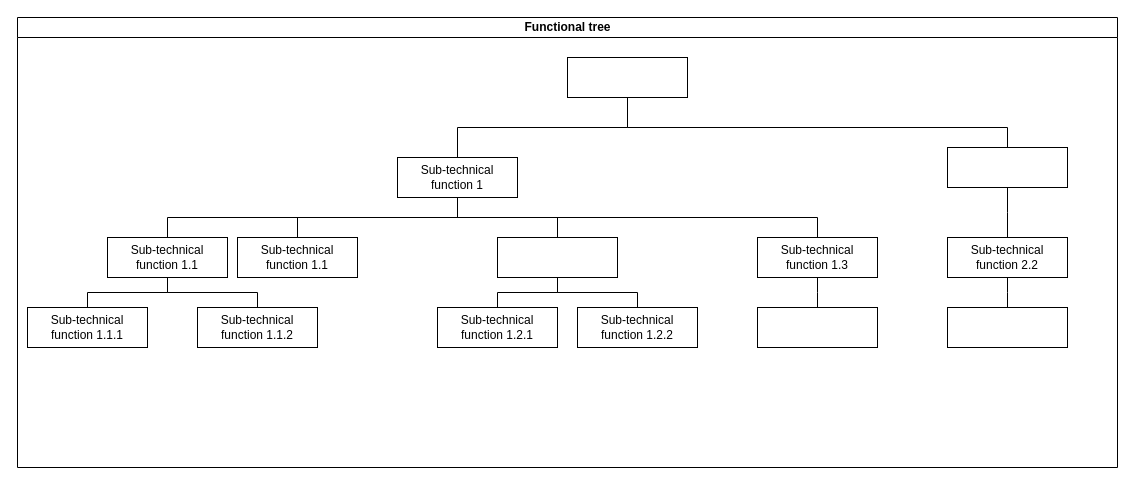
The diagram is 1135 pixels wide and 485 high, and some of its shapes have lost their labels. Each missing label, with the centre of its shape:
"Cool down" belongs at (x=627, y=77).
"Sub-technical function 1.2" belongs at (x=557, y=257).
"Sub-technical function 1.3.1" belongs at (x=817, y=327).
"Sub-technical function 2" belongs at (x=1007, y=167).
"Sub-technical function 2.1.2" belongs at (x=1007, y=327).
